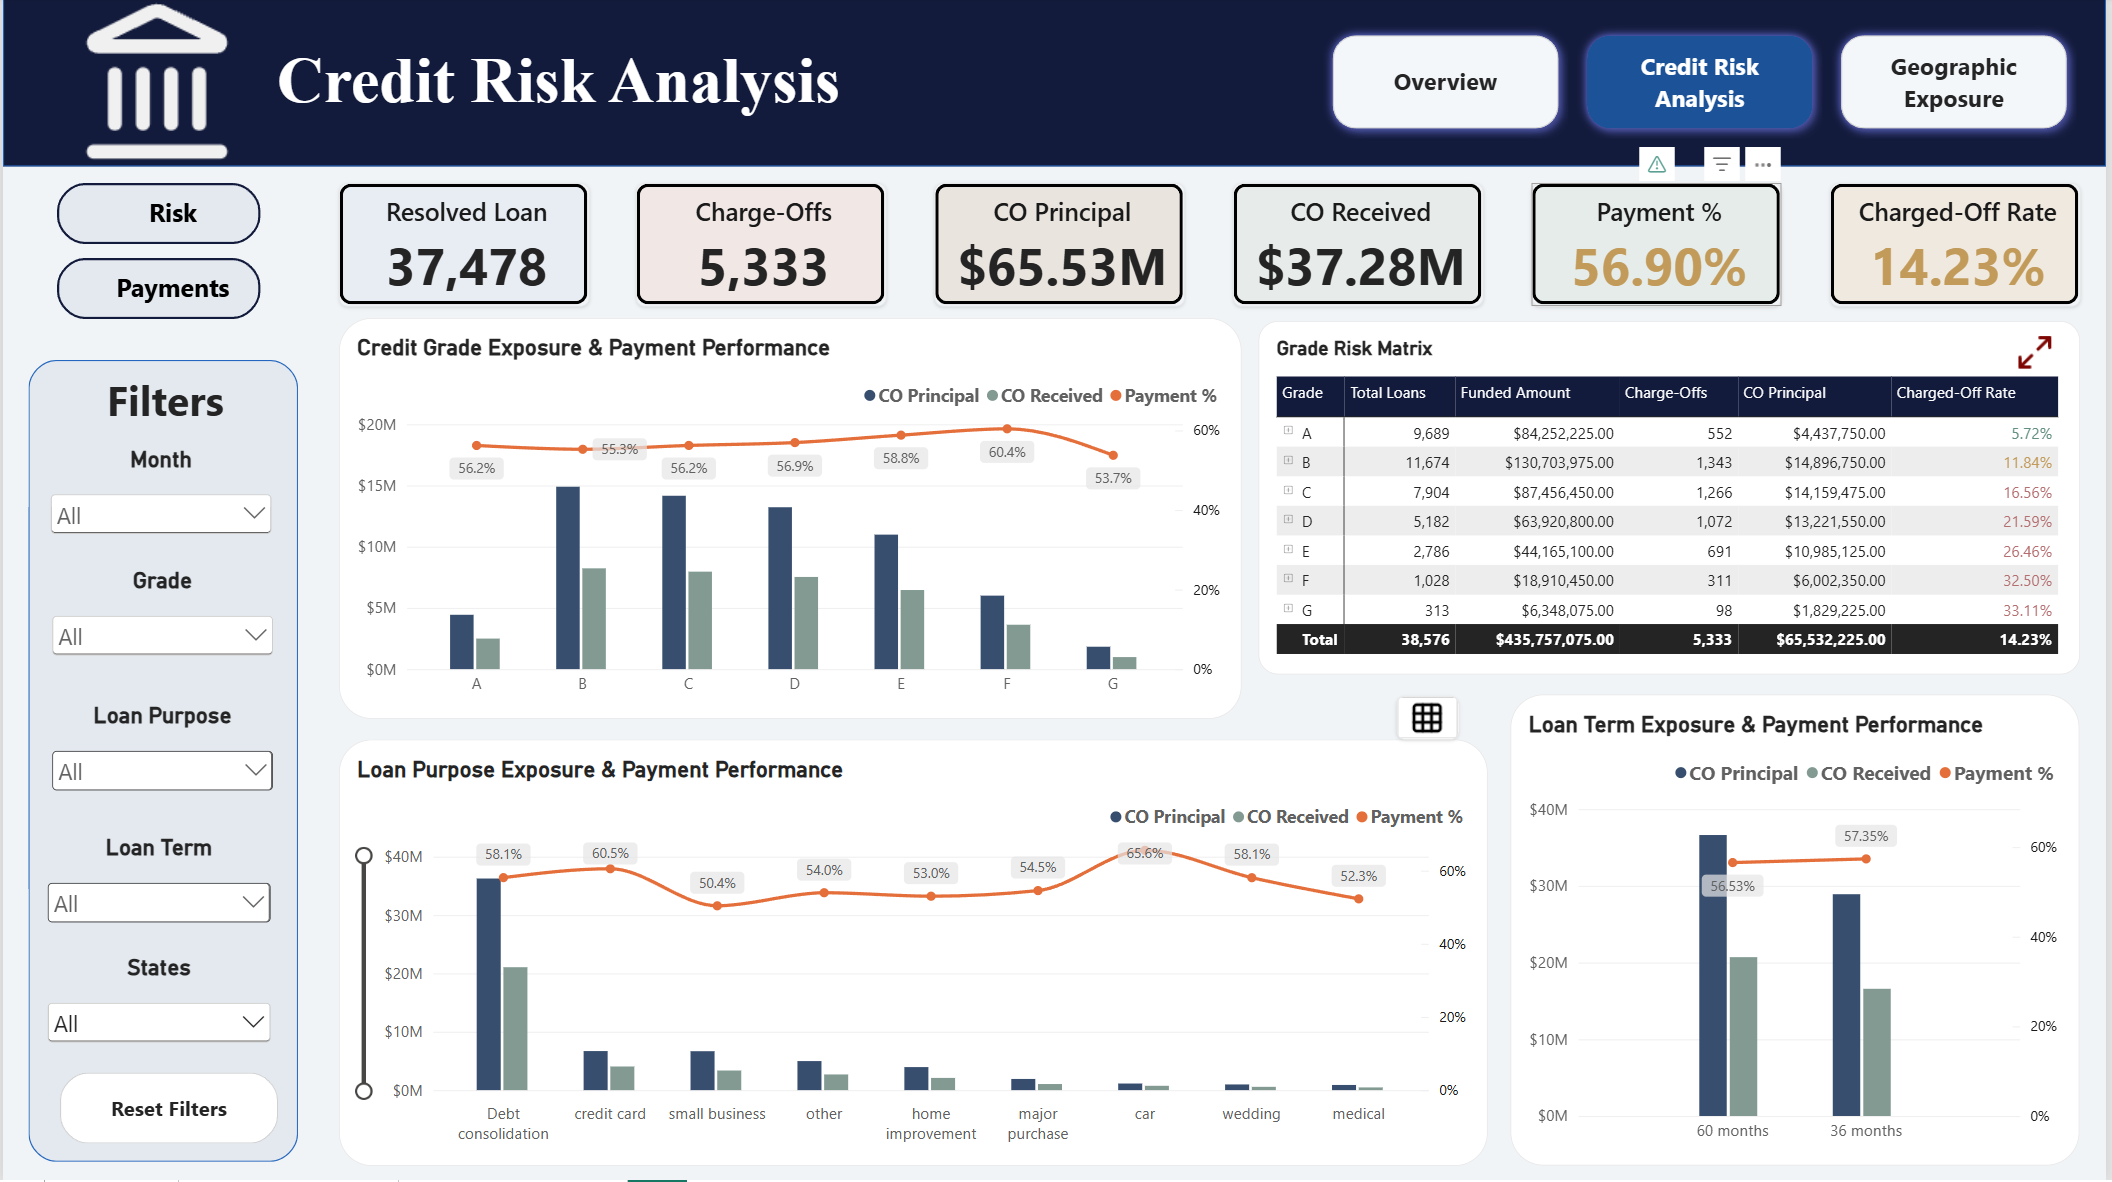

The page's visual inventory and layout, read from the dashboard file:
{"tool":"powerbi","page":{"name":"Credit Risk Analysis","canvas":[1920,1080],"ordinal":1},"visuals":[{"type":"shape","box":[0,0,1919.9,154.7],"z":1000},{"type":"shape","box":[23.2,331.2,246.1,732],"z":2000},{"type":"cardVisual","fields":{"Data":["Calculated_Measures.Charge-Offs"]},"box":[578.5,170.4,228.4,112.4],"z":3000},{"type":"lineClusteredColumnComboChart","title":"Funded Exposure & Charge-Off Rate by Grade","fields":{"Category":["analytics Dim_CreditGrade.grade"],"Y":["Calculated_Measures.Funded Amount"],"Y2":["Calculated_Measures.Charged-Off Rate"]},"box":[306.4,294,823.3,365.2],"z":4000},{"type":"cardVisual","fields":{"Data":["Calculated_Measures.Charged-Off Principal"]},"box":[850.8,170.4,228.4,112.4],"z":5000},{"type":"cardVisual","fields":{"Data":["Calculated_Measures.Charged-Off Rate"]},"box":[1667.5,170.4,228.4,112.4],"z":6000},{"type":"textbox","box":[208.2,42.5,576.5,69.8],"z":7000},{"type":"slicer","title":"Loan Purpose","fields":{"Values":["analytics Dim_LoanPurpose.purpose"]},"box":[40.2,643.8,211.9,110.5],"z":8000},{"type":"actionButton","title":"Reset Filter","box":[52.5,981.7,199.1,65],"z":9000},{"type":"slicer","title":"Grade","fields":{"Values":["analytics Dim_CreditGrade.grade"]},"box":[40.2,520,211.9,123.2],"z":10000},{"type":"textbox","box":[32.5,342,230.5,81.7],"z":11000},{"type":"cardVisual","fields":{"Data":["Calculated_Measures.Received on Charge-Offs"]},"box":[1123,170.4,228.4,112.4],"z":12000},{"type":"lineStackedColumnComboChart","title":"Funded Exposure & Charge-Off Rate by Purpose","fields":{"Category":["analytics Dim_LoanPurpose.purpose"],"Y":["Calculated_Measures.Funded Amount"],"Y2":["Calculated_Measures.Charged-Off Rate"]},"box":[306.4,677.8,1049.3,388.4],"z":13000},{"type":"lineClusteredColumnComboChart","title":"Loan Status & Charge-Off Rate by Term","fields":{"Category":["analytics Fact_Loan.term"],"Series":["analytics Fact_Loan.loan_status"],"Y":["Calculated_Measures.2_Funded Amount"],"Y2":["Calculated_Measures.Charged-Off Rate"]},"box":[1376.6,637.6,519.8,429.3],"z":14000},{"type":"pivotTable","title":"Grade Risk Matrix","fields":{"Rows":["analytics Dim_CreditGrade.Grade","analytics Dim_CreditGrade.sub_grade"],"Values":["Calculated_Measures.Total Loans","Calculated_Measures.Funded Amount","Calculated_Measures.chargedoffloans","Calculated_Measures.Charged Off Amount","Calculated_Measures.Charged-Off Rate"]},"box":[1146.6,295.2,749.9,322.4],"z":15000},{"type":"slicer","title":"Loan Term","fields":{"Values":["analytics Fact_Loan.term"]},"box":[35.6,764.5,213.7,108.7],"z":16000},{"type":"slicer","title":"States","fields":{"Values":["analytics Dim_State.state_name"]},"box":[36.2,873.1,213.7,108.7],"z":17000},{"type":"cardVisual","fields":{"Data":["Calculated_Measures.Payment %"]},"box":[1395.2,170.4,228.4,112.4],"z":18000},{"type":"cardVisual","fields":{"Data":["Calculated_Measures.Resolved Loan"]},"box":[306.3,170.4,228.4,112.4],"z":19000},{"type":"slicer","title":"Month","fields":{"Values":["analytics Dim_Date.Date.Variation.Date Hierarchy.Month"]},"box":[38.7,410.1,211.9,110.5],"z":20000},{"type":"pageNavigator","box":[1204.6,26.3,690.6,103.3],"z":21000},{"type":"actionButton","title":"Risk","box":[49.5,170.2,185.7,55.7],"z":22000},{"type":"actionButton","title":"Payments","box":[49.5,238.3,185.7,55.7],"z":23000},{"type":"image","box":[10.9,0,259,154],"z":24000},{"type":"actionButton","title":"Maximize","box":[1833.9,306.4,43.3,35.6],"z":25000},{"type":"actionButton","title":"Risk Table button","box":[1271.5,637.6,57.3,40.2],"z":33000}]}

Visuals, with their boxes in screenshot pixels (x1, y1, x2, y2), scaled from the page's 1920x1080 canvas onto the 2112x1182 screenshot:
shape: [x1=0, y1=0, x2=2111, y2=169]
shape: [x1=26, y1=362, x2=296, y2=1164]
cardVisual - Calculated_Measures.Charge-Offs: [x1=636, y1=186, x2=888, y2=310]
"Funded Exposure & Charge-Off Rate by Grade" lineClusteredColumnComboChart: [x1=337, y1=322, x2=1243, y2=721]
cardVisual - Calculated_Measures.Charged-Off Principal: [x1=936, y1=186, x2=1187, y2=310]
cardVisual - Calculated_Measures.Charged-Off Rate: [x1=1834, y1=186, x2=2085, y2=310]
textbox: [x1=229, y1=47, x2=863, y2=123]
"Loan Purpose" slicer: [x1=44, y1=705, x2=277, y2=826]
"Reset Filter" actionButton: [x1=58, y1=1074, x2=277, y2=1146]
"Grade" slicer: [x1=44, y1=569, x2=277, y2=704]
textbox: [x1=36, y1=374, x2=289, y2=464]
cardVisual - Calculated_Measures.Received on Charge-Offs: [x1=1235, y1=186, x2=1487, y2=310]
"Funded Exposure & Charge-Off Rate by Purpose" lineStackedColumnComboChart: [x1=337, y1=742, x2=1491, y2=1167]
"Loan Status & Charge-Off Rate by Term" lineClusteredColumnComboChart: [x1=1514, y1=698, x2=2086, y2=1168]
"Grade Risk Matrix" pivotTable: [x1=1261, y1=323, x2=2086, y2=676]
"Loan Term" slicer: [x1=39, y1=837, x2=274, y2=956]
"States" slicer: [x1=40, y1=956, x2=275, y2=1075]
cardVisual - Calculated_Measures.Payment %: [x1=1535, y1=186, x2=1786, y2=310]
cardVisual - Calculated_Measures.Resolved Loan: [x1=337, y1=186, x2=588, y2=310]
"Month" slicer: [x1=43, y1=449, x2=276, y2=570]
pageNavigator: [x1=1325, y1=29, x2=2085, y2=142]
"Risk" actionButton: [x1=54, y1=186, x2=259, y2=247]
"Payments" actionButton: [x1=54, y1=261, x2=259, y2=322]
image: [x1=12, y1=0, x2=297, y2=169]
"Maximize" actionButton: [x1=2017, y1=335, x2=2065, y2=374]
"Risk Table button" actionButton: [x1=1399, y1=698, x2=1462, y2=742]
